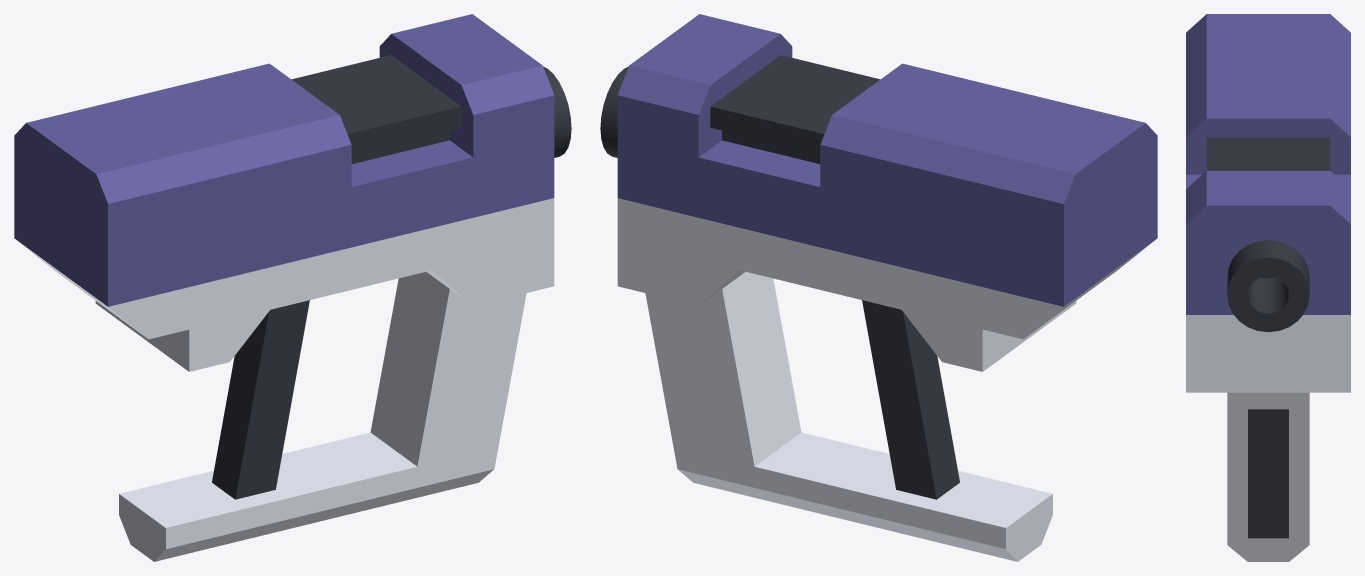
The model's file is Pistol1.fbx.
3 views of the same model, side by side, from view 1: azimuth 30°, elevation 25°; view 2: azimuth 150°, elevation 25°; view 3: azimuth 270°, elevation 25° (orthographic). The views are drawn at different scales.
Parts seen in each view (by area): view 1: blaster_handleGuard, blaster_back; view 2: blaster_handleGuard, blaster_back; view 3: blaster_handleGuard, blaster_back.
Part boxes in pixels (box(x1,y1,x2,y2)): blaster_handleGuard: box(95, 14, 571, 561); blaster_back: box(14, 103, 189, 339); blaster_handleGuard: box(600, 14, 1076, 561); blaster_back: box(982, 103, 1157, 339); blaster_handleGuard: box(1186, 49, 1350, 561); blaster_back: box(1186, 14, 1350, 66).
Bounding box in the file's own units: 6 × 5 × 2.
